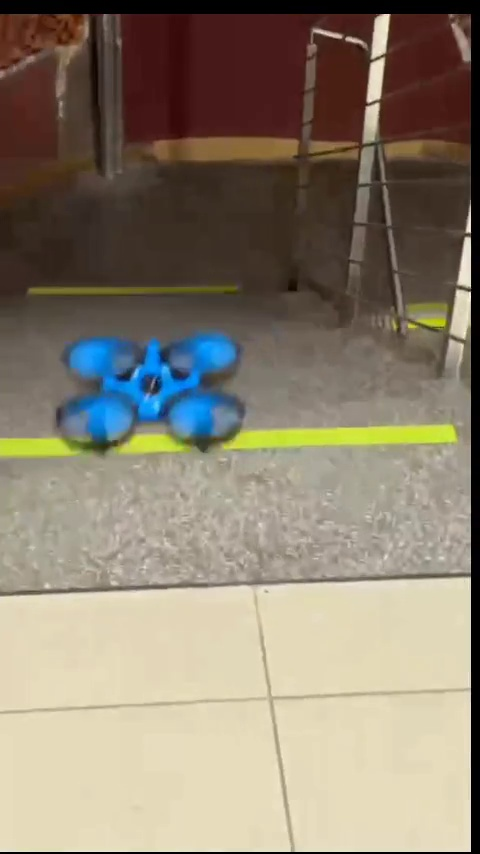drone: (56, 332, 250, 449)
